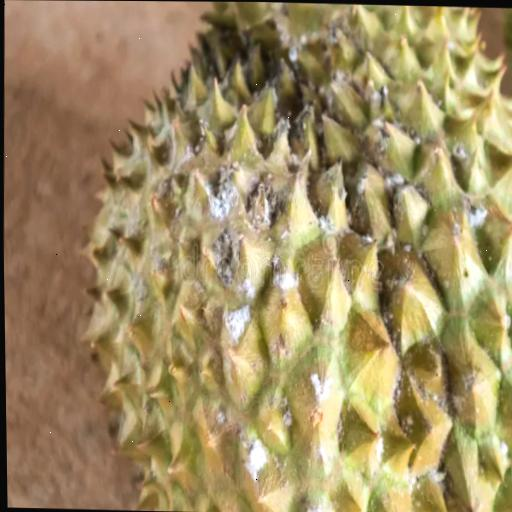mold: (55, 0, 512, 512)
